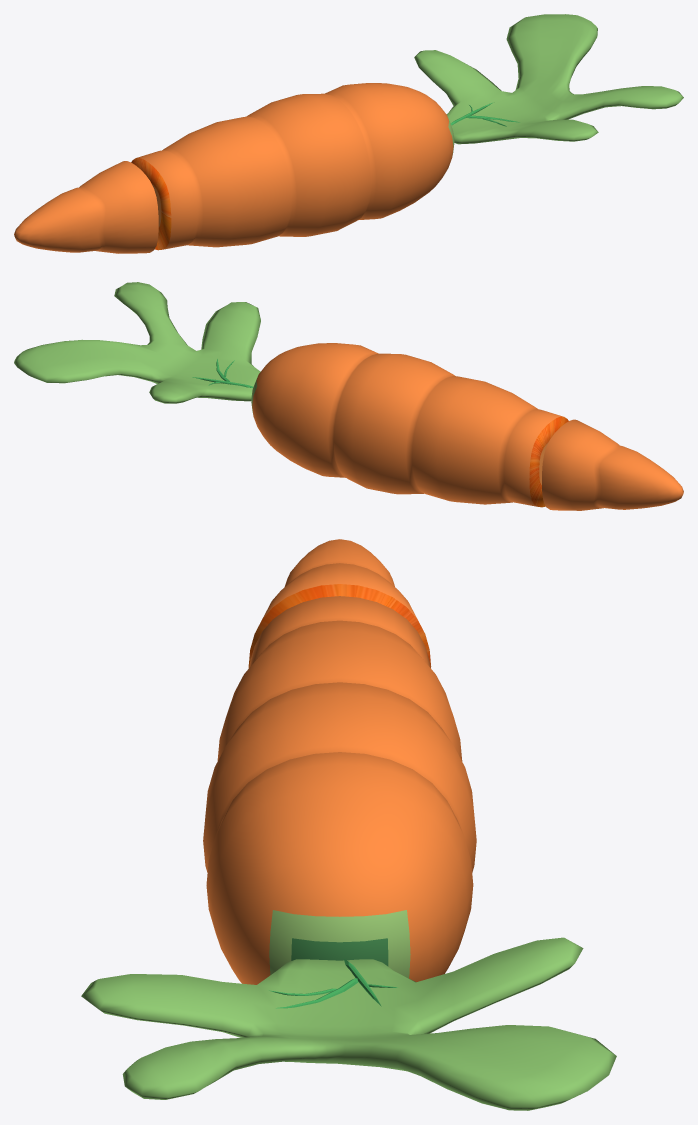
File: potongan 1.fbx
3 renders of one model, top to bottom at view 1: azimuth 30°, elevation 25°; view 2: azimuth 150°, elevation 25°; view 3: azimuth 270°, elevation 25°, orthographic. The views are drawn at different scales.
Visible parts, largest first — view 1: wortel, Plane, potongan; view 2: wortel, Plane, potongan; view 3: wortel, Plane, potongan.
Part boxes in pixels (box(x1,y1,x2,y2)): wortel: box(131, 83, 454, 250); Plane: box(414, 14, 683, 144); potongan: box(14, 161, 158, 253); wortel: box(251, 343, 568, 507); Plane: box(14, 282, 260, 403); potongan: box(542, 419, 683, 510); wortel: box(203, 596, 476, 984); Plane: box(81, 937, 616, 1110); potongan: box(248, 539, 431, 668).
Bounding box in the file's own units: 718 × 138 × 270.
8 materials, 1 textured.
